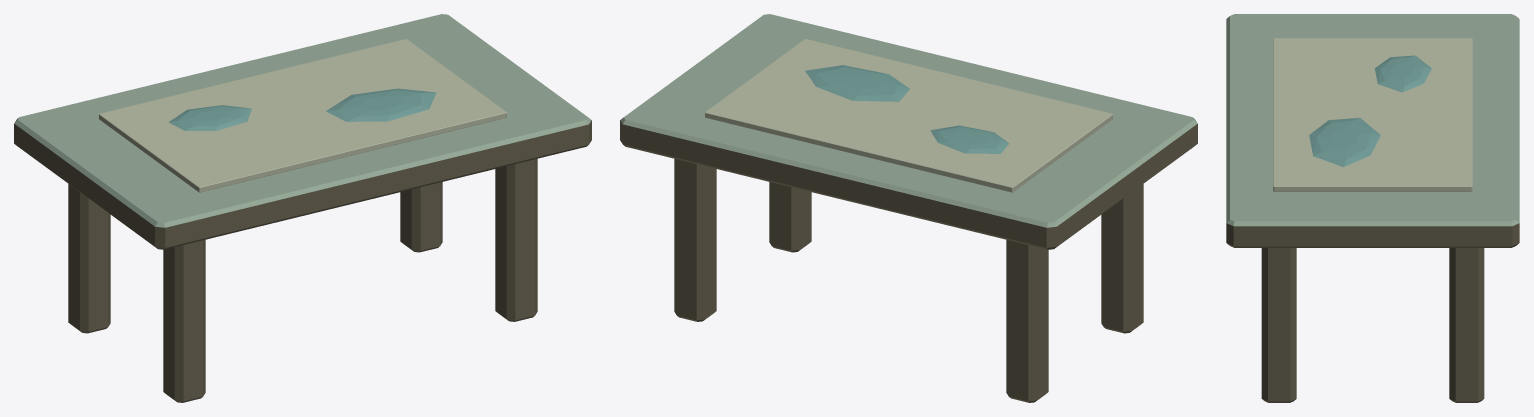
Rendered from map-table.glb.
3 views of the same model, side by side, from view 1: azimuth 30°, elevation 25°; view 2: azimuth 150°, elevation 25°; view 3: azimuth 270°, elevation 25° (orthographic).
Parts seen in each view (by area): view 1: map-table__body; view 2: map-table__body; view 3: map-table__body.
Boxes of the visible parts, x1,y1,x2,y2 form: map-table__body: (14, 14, 591, 402); map-table__body: (620, 14, 1197, 402); map-table__body: (1226, 14, 1519, 402).
Bounding box in the file's own units: 1.7 × 0.789 × 1.
